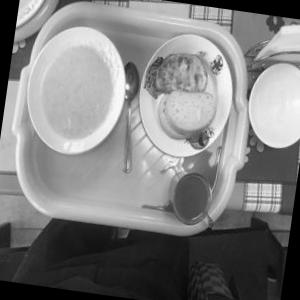bread: (148, 84, 226, 142)
cheese_sandwich: (142, 42, 221, 102)
coffee: (150, 158, 236, 238)
porridge: (27, 29, 127, 154)
